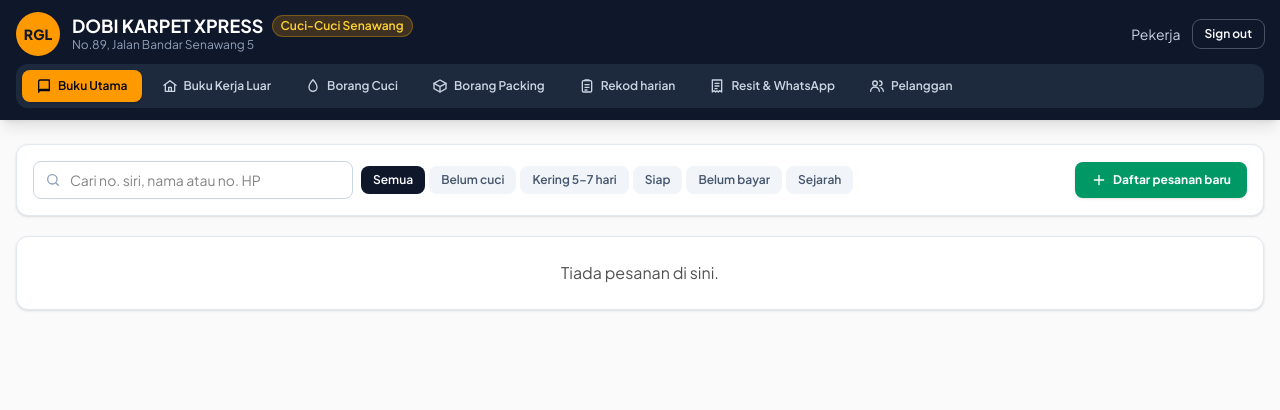
back office › moves picked-up and cancelled orders to the history tab
Expected: the text "Tiada pesanan di sini." is shown, [16,236,1264,310]
Step 1. Click the button "Sejarah" → x=820, y=180, box [786,166,853,194]
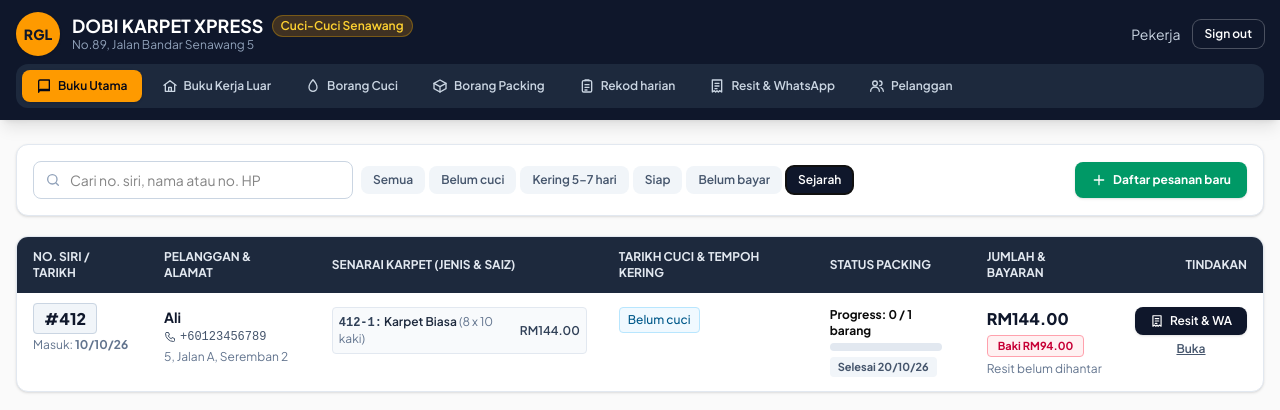
Expected: the row named "Pesanan 412" shows "Selesai 20/10/26", [838,360,929,373]
